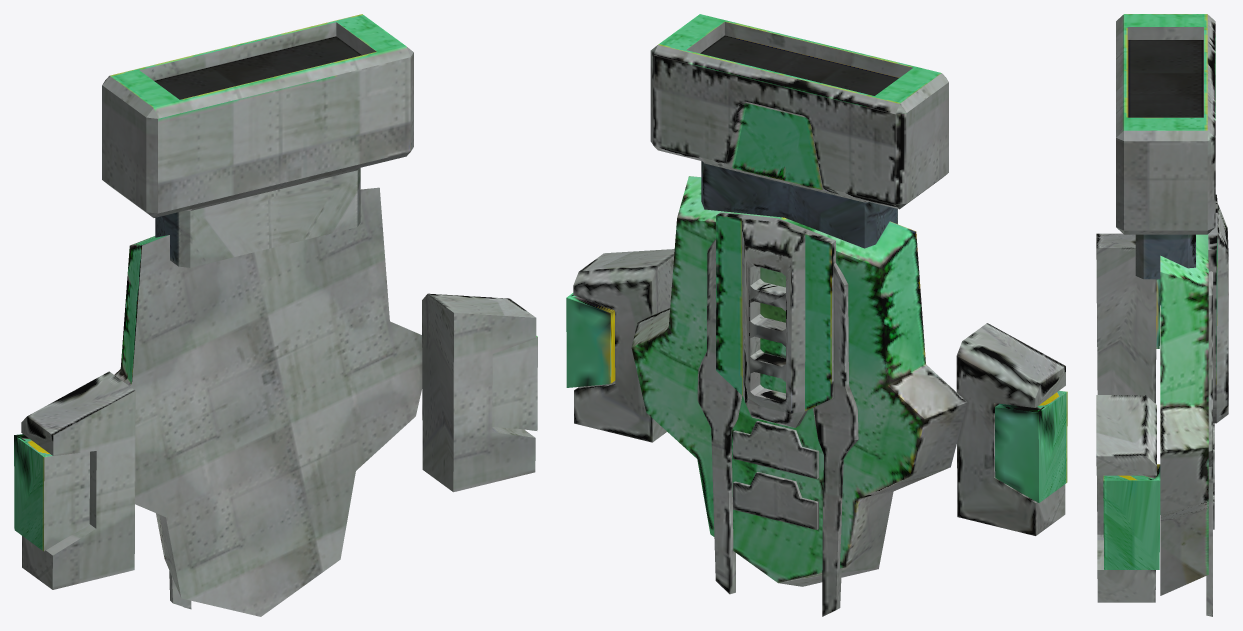
The model's file is Turret Canon.fbx.
The picture shows the model from 3 angles, left to right: view 1: azimuth 30°, elevation 25°; view 2: azimuth 150°, elevation 25°; view 3: azimuth 270°, elevation 25°; orthographic projection. The views are drawn at different scales.
Parts seen in each view (by area): view 1: Plane.002; view 2: Plane.002; view 3: Plane.002.
Boxes of the visible parts, bbox=[...] form: Plane.002: bbox=[14, 14, 537, 616]; Plane.002: bbox=[566, 14, 1067, 616]; Plane.002: bbox=[1096, 14, 1228, 616].
Size of the model in its own units: 239 by 256 by 58.64.
